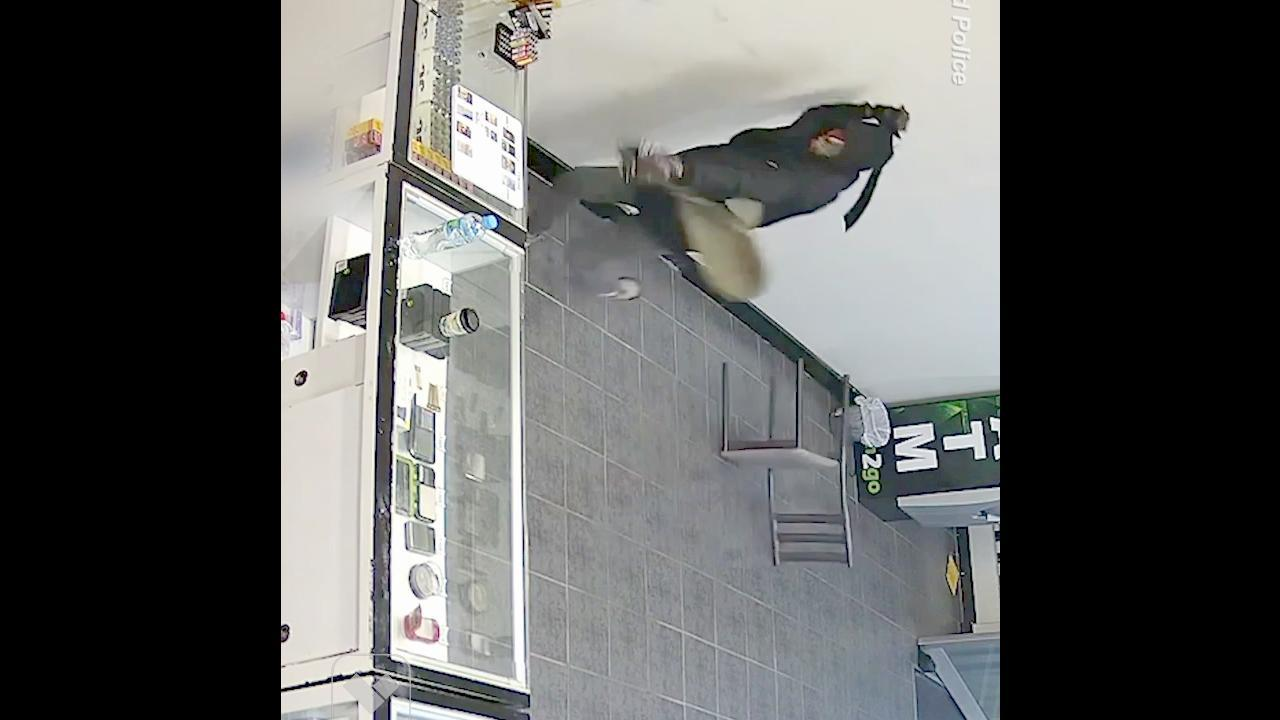melee: (836, 144, 896, 234)
